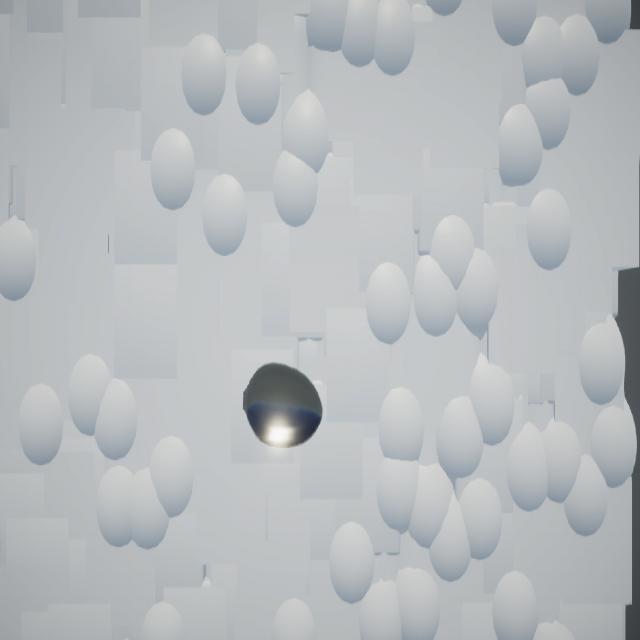top_spoon: (244, 363, 324, 449)
